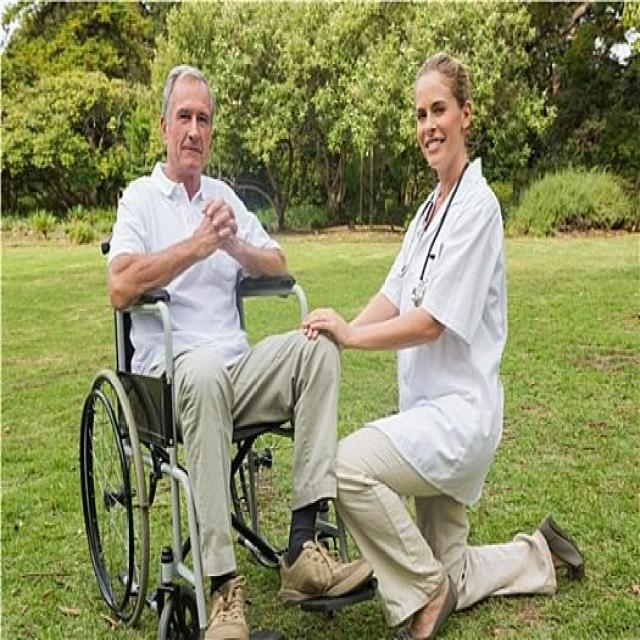wheelchairs: (70, 216, 382, 639)
